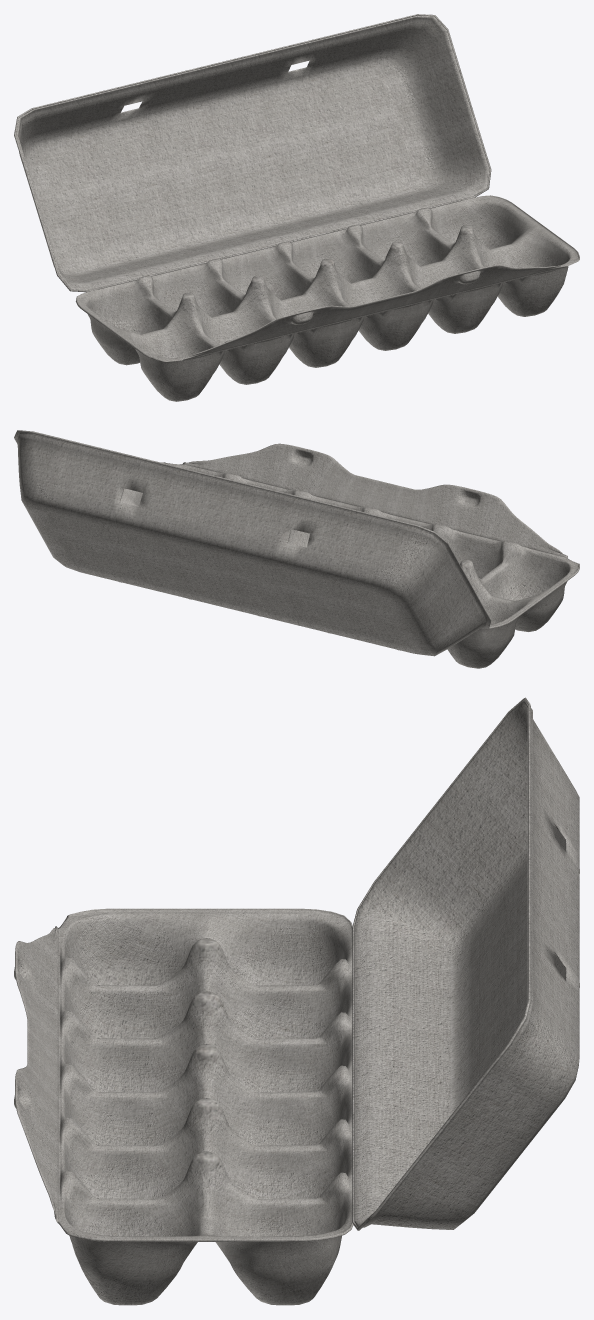
File: carton-only.glb
The picture shows the model from 3 angles, top to bottom: view 1: azimuth 30°, elevation 25°; view 2: azimuth 150°, elevation 25°; view 3: azimuth 270°, elevation 25°; orthographic projection. The views are drawn at different scales.
Visible parts, largest first — view 1: carton_top_Plane.001, carton_bottom_Plane; view 2: carton_top_Plane.001, carton_bottom_Plane; view 3: carton_bottom_Plane, carton_top_Plane.001.
Part boxes in pixels (x1,y1,x2,y2): carton_top_Plane.001: [14, 14, 491, 292]; carton_bottom_Plane: [75, 195, 579, 401]; carton_top_Plane.001: [14, 430, 491, 656]; carton_bottom_Plane: [119, 443, 579, 668]; carton_bottom_Plane: [14, 908, 353, 1305]; carton_top_Plane.001: [352, 697, 579, 1230].
Size of the model in its own units: 3.94 by 1.71 by 2.83.
Materials: 1 (1 with a texture image).
